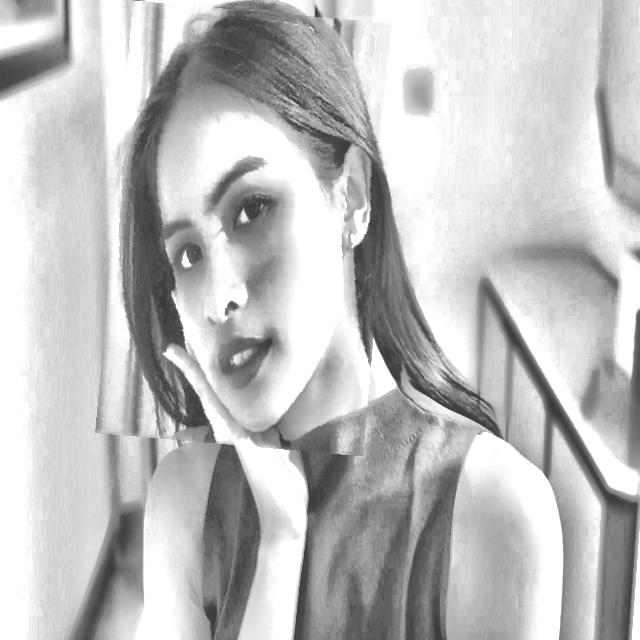happy: (104, 6, 391, 451)
